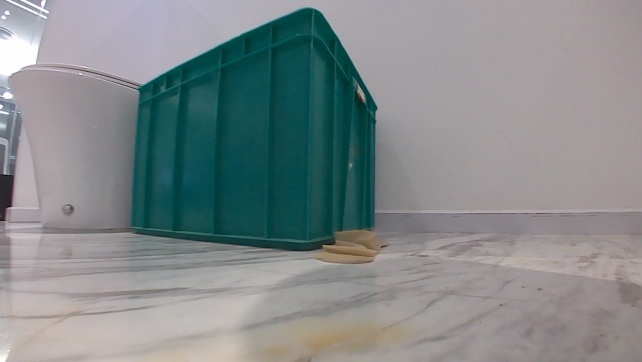socks: (314, 227, 390, 265)
toilet: (4, 59, 144, 232)
